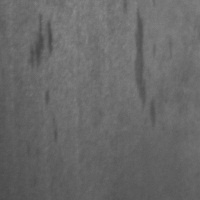inclusion: (132, 4, 163, 132), (24, 9, 61, 73), (39, 84, 64, 148)
